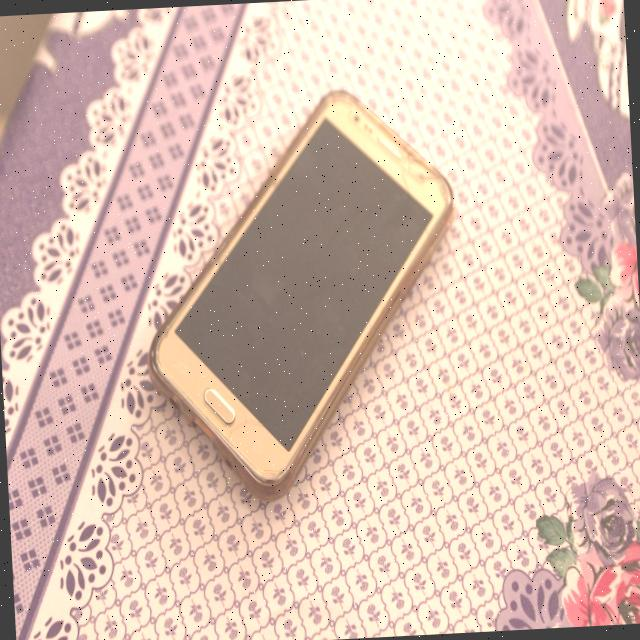Phone: (136, 81, 471, 509)
